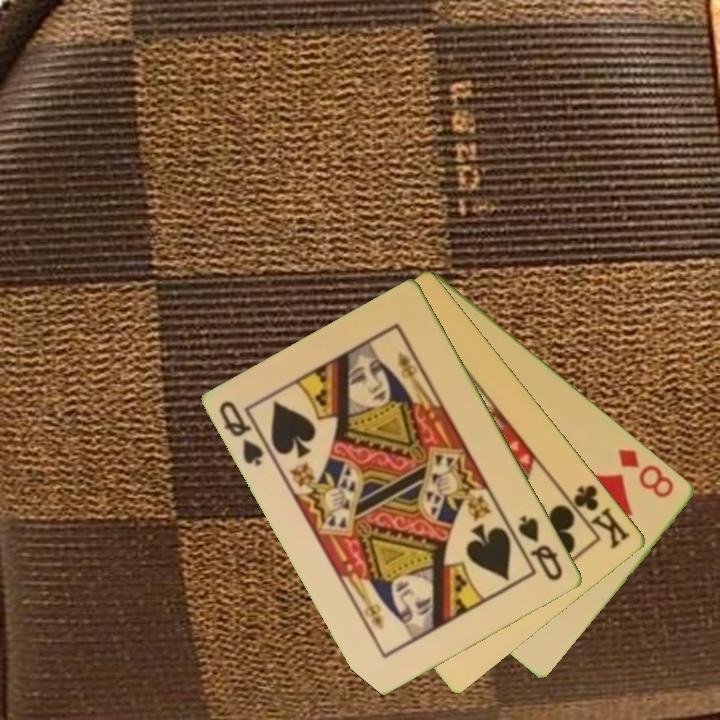8d: (615, 445, 678, 501)
Kc: (562, 481, 634, 552)
Qs: (216, 397, 277, 469), (515, 511, 567, 584)
